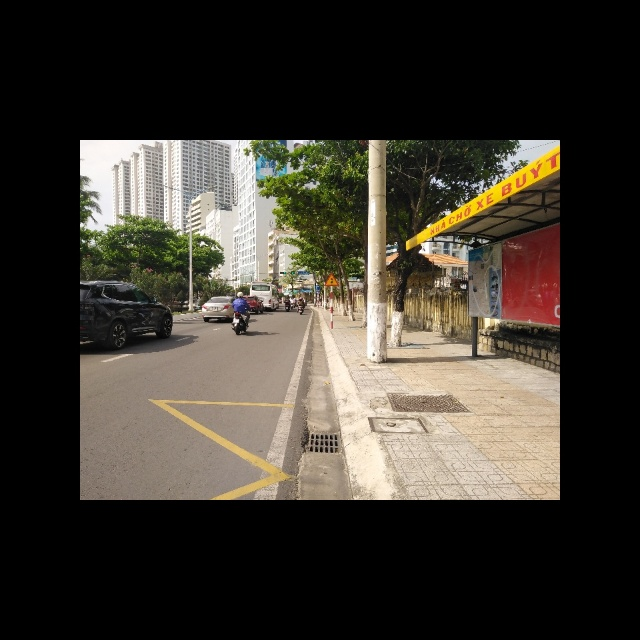Giao nhau có tín hiệu đèn: (324, 271, 340, 286)
